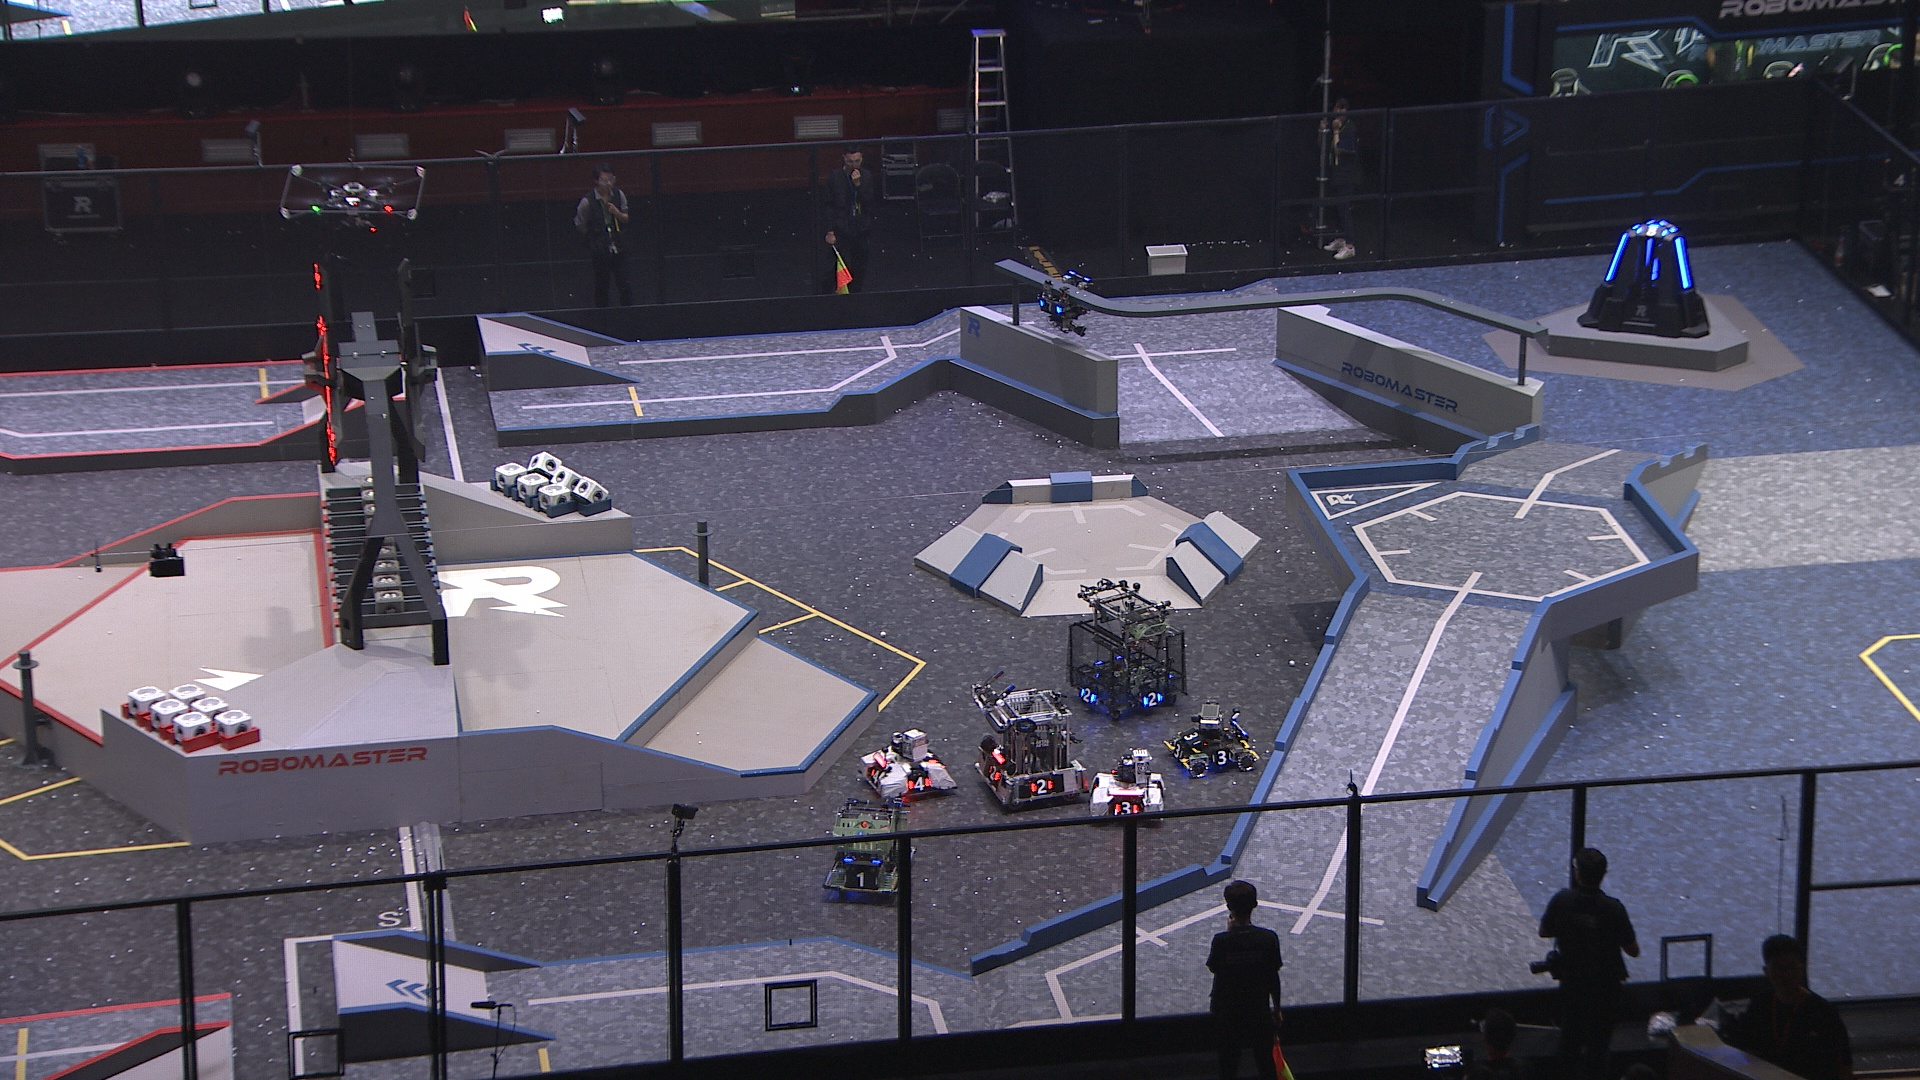armor: (1604, 232, 1631, 285), (1673, 237, 1693, 290), (844, 869, 878, 891), (1634, 222, 1669, 237), (907, 774, 934, 794), (1035, 299, 1064, 316), (1112, 799, 1139, 816), (1029, 778, 1054, 796), (1211, 746, 1233, 766), (1642, 237, 1656, 268), (1141, 692, 1167, 708), (1077, 684, 1097, 705), (866, 766, 884, 787), (1182, 731, 1204, 746), (1168, 741, 1185, 760), (986, 764, 1001, 785), (1651, 258, 1662, 278)
base: (1576, 219, 1712, 342)
car: (1064, 588, 1188, 723), (969, 688, 1087, 808), (822, 796, 920, 901), (856, 731, 955, 804), (1162, 703, 1254, 779), (1084, 746, 1168, 829)
watcher: (1034, 270, 1095, 335)
